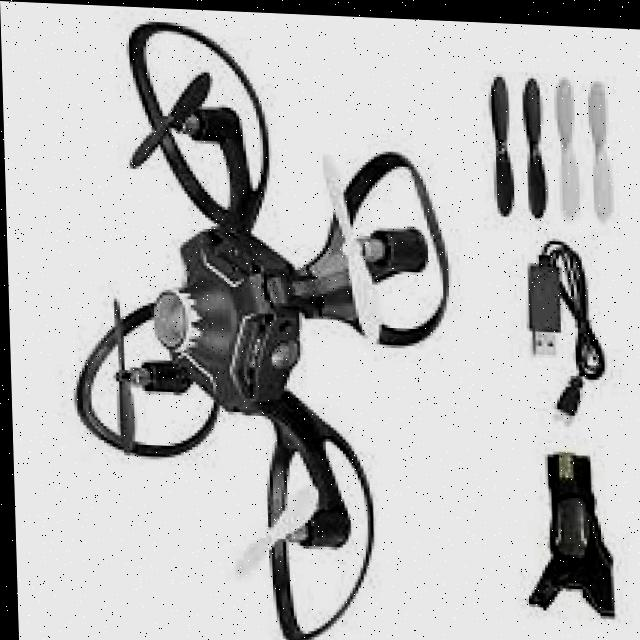drone: (68, 3, 473, 640)
